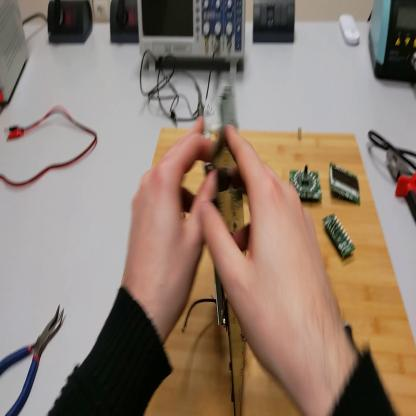hand: (200, 125, 345, 388), (122, 123, 219, 332)
low voltage board: (186, 81, 251, 415)
oscilloscope: (138, 3, 246, 74), (1, 1, 30, 103)
oscilloscope probe tip: (197, 86, 205, 120)
pliers: (2, 304, 69, 415), (387, 145, 416, 222)
socket: (47, 2, 93, 44), (111, 1, 139, 45)
welder station: (369, 1, 416, 87)
working area: (145, 128, 416, 415)
